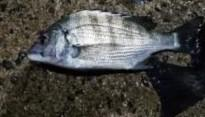fish: (26, 9, 204, 70)
